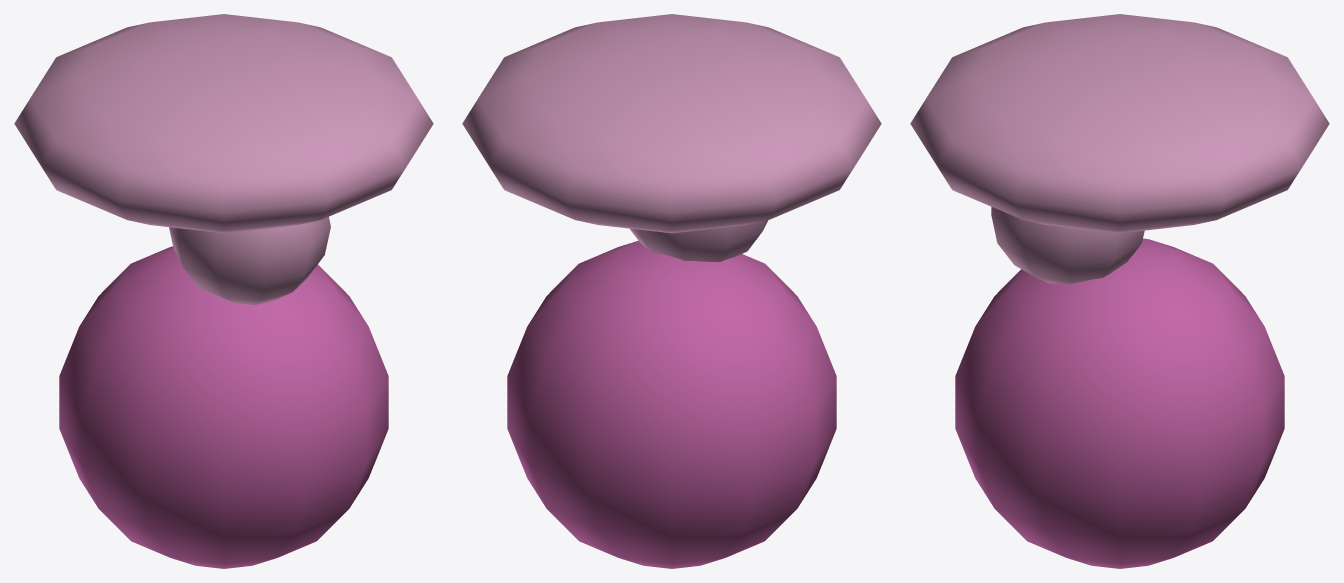
The model's file is mushroom_monster_1.glb.
3 views of the same model, side by side, from view 1: azimuth 30°, elevation 25°; view 2: azimuth 150°, elevation 25°; view 3: azimuth 270°, elevation 25° (orthographic).
Visible parts, largest first — view 1: CoreBody, MOTIF_mushroom_cap, Head; view 2: CoreBody, MOTIF_mushroom_cap, Head; view 3: CoreBody, MOTIF_mushroom_cap, Head.
Part boxes in pixels (bbox=[...]): CoreBody: bbox=[59, 246, 388, 568]; MOTIF_mushroom_cap: bbox=[14, 14, 433, 233]; Head: bbox=[169, 217, 330, 304]; CoreBody: bbox=[507, 240, 836, 568]; MOTIF_mushroom_cap: bbox=[462, 14, 881, 233]; Head: bbox=[630, 220, 767, 261]; CoreBody: bbox=[955, 238, 1284, 568]; MOTIF_mushroom_cap: bbox=[910, 14, 1329, 233]; Head: bbox=[991, 206, 1144, 284].
Size of the model in its own units: 1.5 by 1.96 by 1.5.
